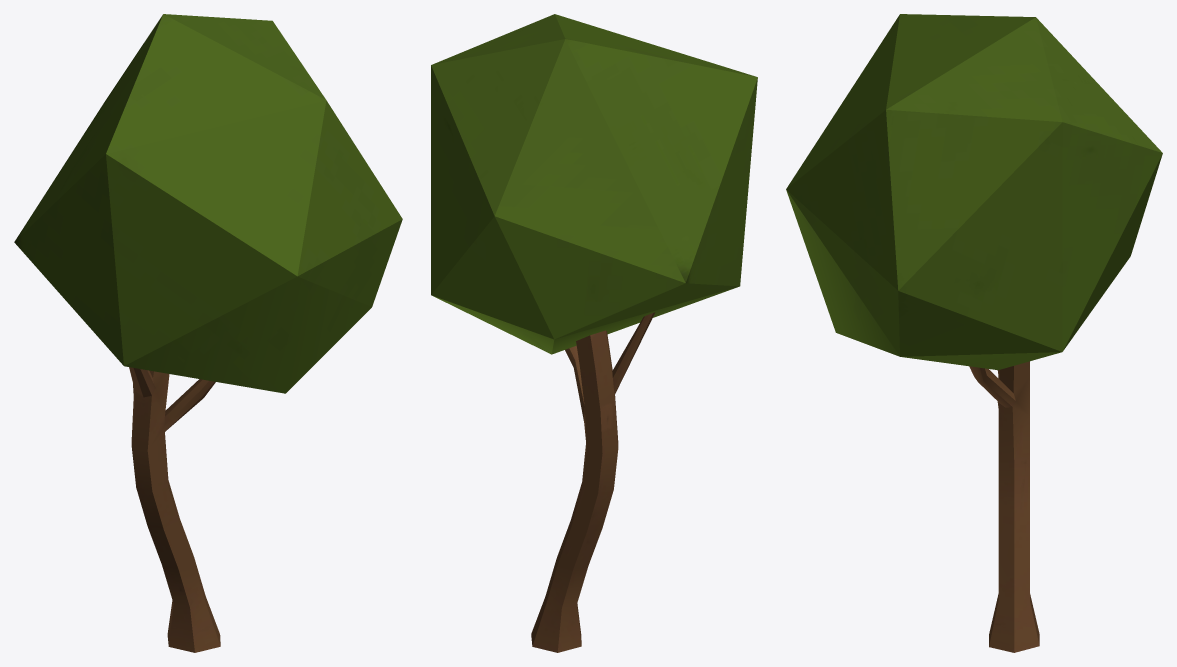
The model's file is buissonSureleve2.fbx.
3 views of the same model, side by side, from view 1: azimuth 30°, elevation 25°; view 2: azimuth 150°, elevation 25°; view 3: azimuth 270°, elevation 25° (orthographic).
Visible parts, largest first — view 1: feuillage, branches; view 2: feuillage, branches; view 3: feuillage, branches.
Part boxes in pixels (x1,y1,x2,y2): feuillage: (14,14,402,393); branches: (129,367,220,652); feuillage: (431,14,757,354); branches: (531,312,655,652); feuillage: (786,14,1162,370); branches: (969,361,1039,652).
Size of the model in its own units: 1.91 by 3.73 by 2.08.
1 material, 1 textured.
